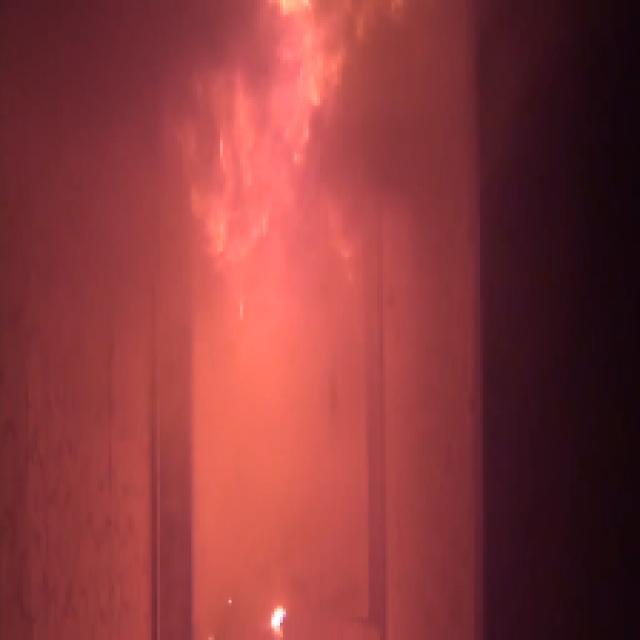Fire: (200, 2, 343, 278), (260, 597, 289, 629)
Smoke: (20, 12, 192, 294), (354, 8, 462, 248)
